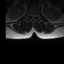CCS_normal: (32, 13, 34, 20)
LFS_normal: (36, 13, 38, 18)
LLS_normal: (34, 13, 36, 18)
RFS_normal: (29, 13, 31, 17)
RLS_normal: (31, 13, 32, 18)
